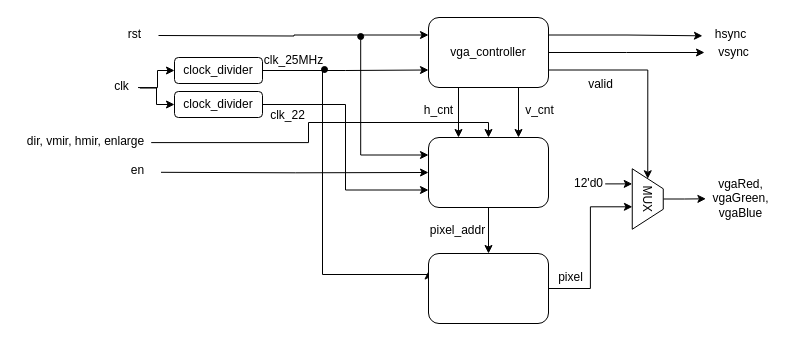
Some shapes in this 794 by 341 pixel diagram are drawn without their labels. Each missing label, with the centre of its shape:
"blk_mem_gen" belongs at (488,288).
"mem_addr_gen" belongs at (488,172).
